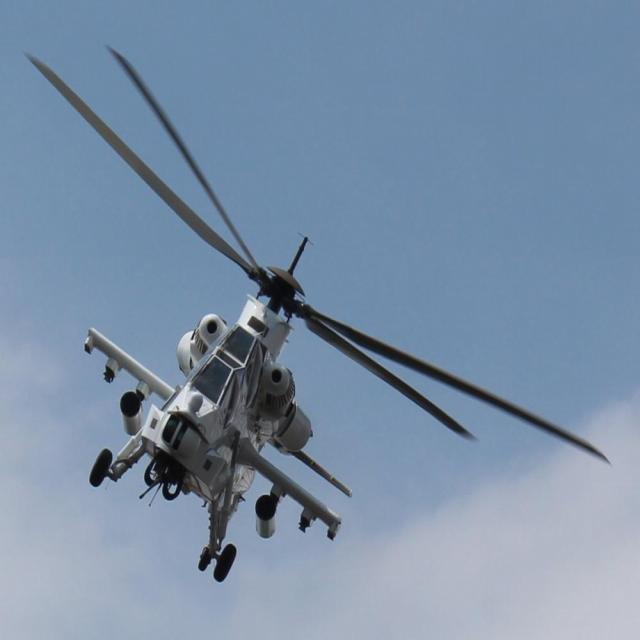MIL_HELO: (20, 37, 620, 576)
